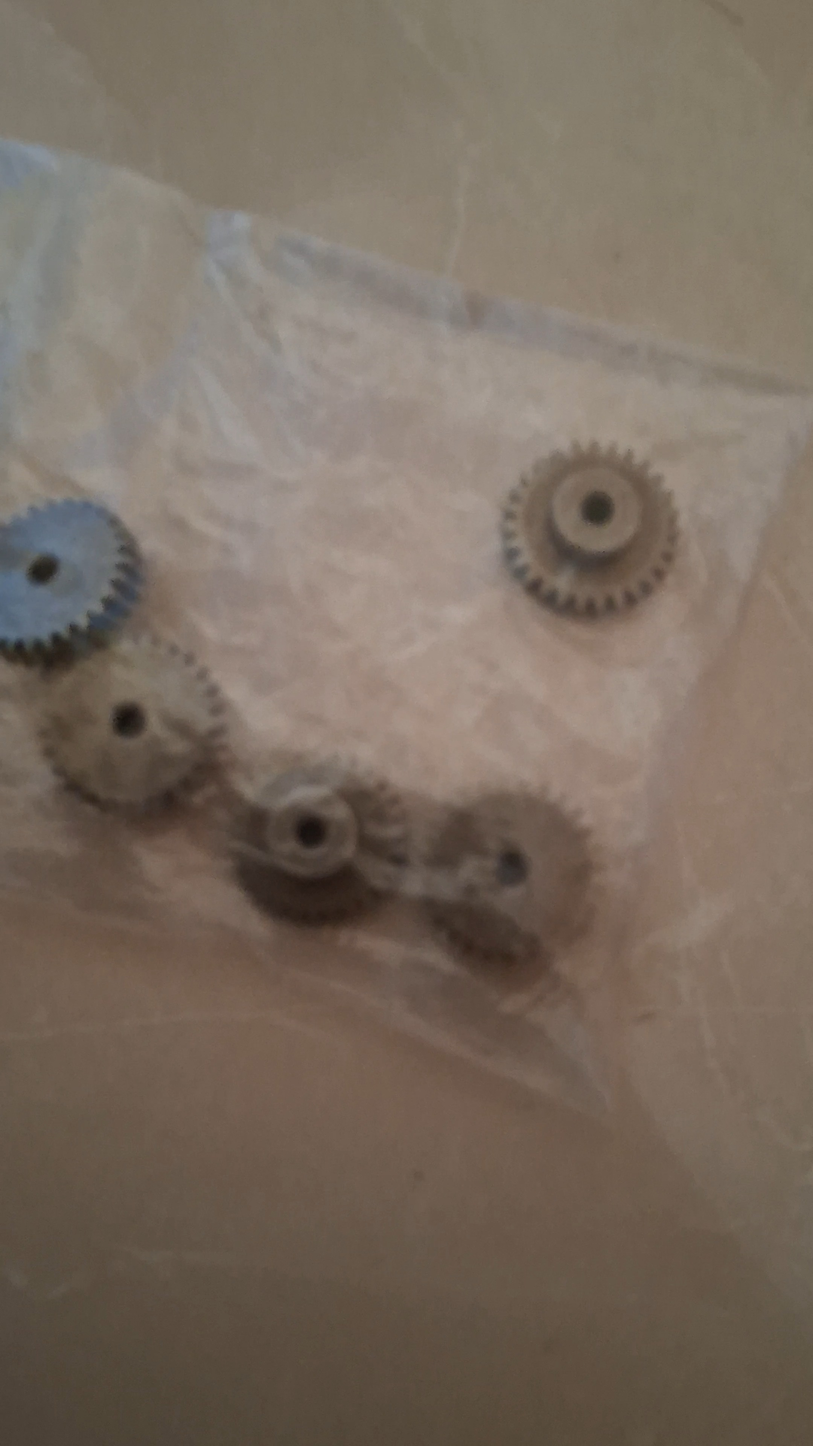spur gear: (41, 637, 224, 810), (502, 444, 678, 616), (231, 757, 408, 923), (426, 793, 593, 963), (0, 499, 142, 663)
